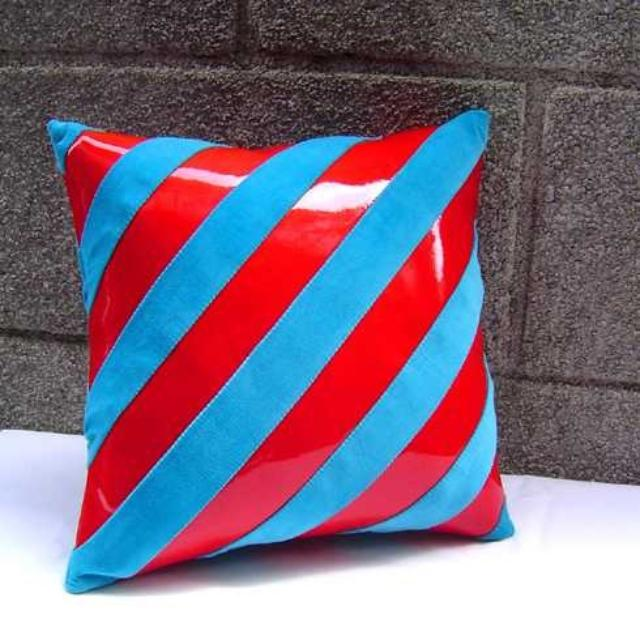pillow: (44, 108, 516, 594)
